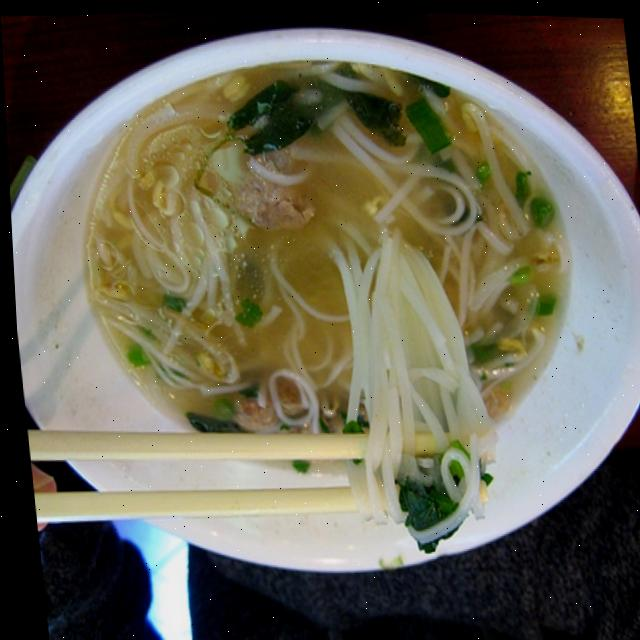面条主食: (15, 19, 633, 596)
